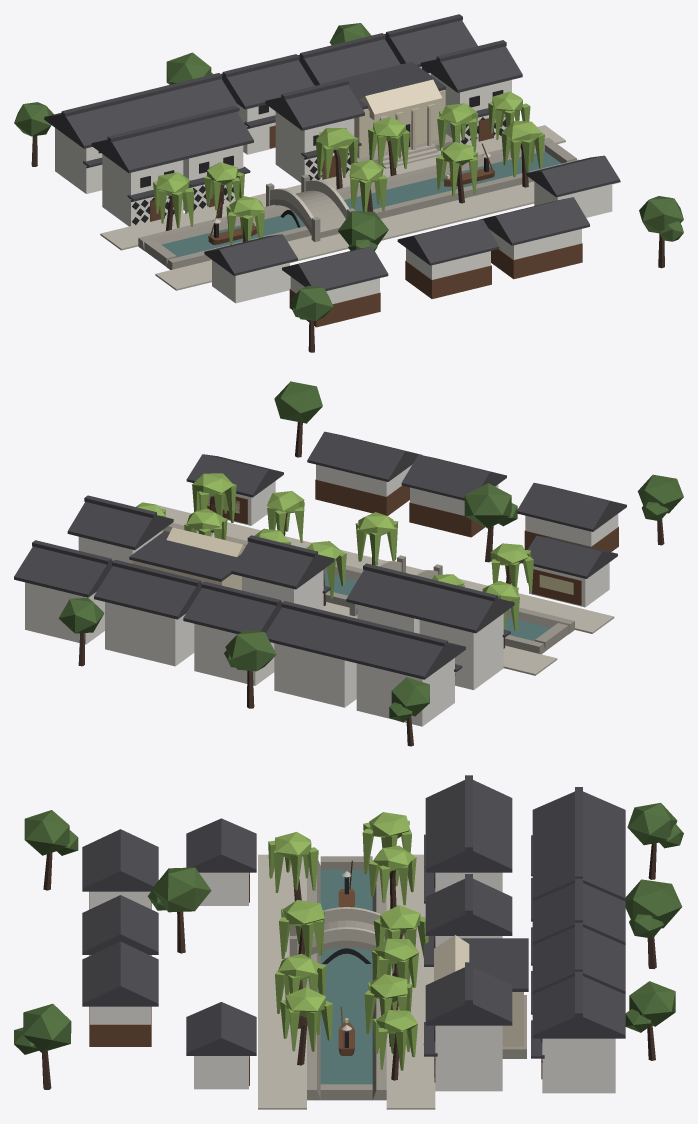
Rendered from kurashiki-bikan.glb.
The picture shows the model from 3 angles, top to bottom: view 1: azimuth 30°, elevation 25°; view 2: azimuth 150°, elevation 25°; view 3: azimuth 270°, elevation 25°; orthographic projection. The views are drawn at different scales.
Parts seen in each view (by area): view 1: kurashiki_roof, kurashiki_plaster, kurashiki_willow, kurashiki_pave, kurashiki_stone, kurashiki_leaf, kurashiki_wood, kurashiki_museum, kurashiki_water, kurashiki_black, kurashiki_bark; view 2: kurashiki_roof, kurashiki_plaster, kurashiki_leaf, kurashiki_willow, kurashiki_wood, kurashiki_pave, kurashiki_stone, kurashiki_museum, kurashiki_bark, kurashiki_water; view 3: kurashiki_roof, kurashiki_willow, kurashiki_plaster, kurashiki_pave, kurashiki_leaf, kurashiki_water, kurashiki_stone, kurashiki_bark, kurashiki_wood, kurashiki_museum, kurashiki_black.
Part boxes in pixels (x1=…): kurashiki_roof: x1=44, y1=14, x2=619, y2=290; kurashiki_plaster: x1=55, y1=64, x2=612, y2=304; kurashiki_willow: x1=153, y1=91, x2=544, y2=245; kurashiki_pave: x1=100, y1=125, x2=620, y2=290; kurashiki_stone: x1=138, y1=134, x2=578, y2=269; kurashiki_leaf: x1=14, y1=23, x2=683, y2=320; kurashiki_wood: x1=150, y1=118, x2=582, y2=327; kurashiki_museum: x1=354, y1=79, x2=445, y2=158; kurashiki_water: x1=161, y1=151, x2=561, y2=257; kurashiki_black: x1=86, y1=67, x2=506, y2=238; kurashiki_bark: x1=31, y1=135, x2=664, y2=352; kurashiki_roof: x1=14, y1=431, x2=626, y2=679; kurashiki_plaster: x1=25, y1=464, x2=618, y2=726; kurashiki_leaf: x1=58, y1=381, x2=683, y2=722; kurashiki_willow: x1=136, y1=473, x2=533, y2=631; kurashiki_wood: x1=207, y1=479, x2=618, y2=605; kurashiki_pave: x1=157, y1=505, x2=614, y2=675; kurashiki_stone: x1=165, y1=523, x2=574, y2=654; kurashiki_museum: x1=132, y1=527, x2=245, y2=590; kurashiki_bark: x1=78, y1=422, x2=664, y2=746; kurashiki_water: x1=324, y1=572, x2=550, y2=641; kurashiki_roof: x1=82, y1=775, x2=625, y2=1058; kurashiki_willow: x1=268, y1=812, x2=428, y2=1070; kurashiki_plaster: x1=90, y1=872, x2=615, y2=1093; kurashiki_pave: x1=258, y1=854, x2=435, y2=1109; kurashiki_leaf: x1=14, y1=802, x2=683, y2=1054; kurashiki_water: x1=320, y1=870, x2=372, y2=1084; kurashiki_stone: x1=289, y1=856, x2=526, y2=1100; kurashiki_bark: x1=42, y1=843, x2=656, y2=1089; kurashiki_wood: x1=89, y1=860, x2=542, y2=1085; kurashiki_museum: x1=434, y1=935, x2=523, y2=1046; kurashiki_black: x1=322, y1=872, x2=542, y2=1082.
Bounding box in the file's own units: 19.6 × 3.69 × 21.92.
